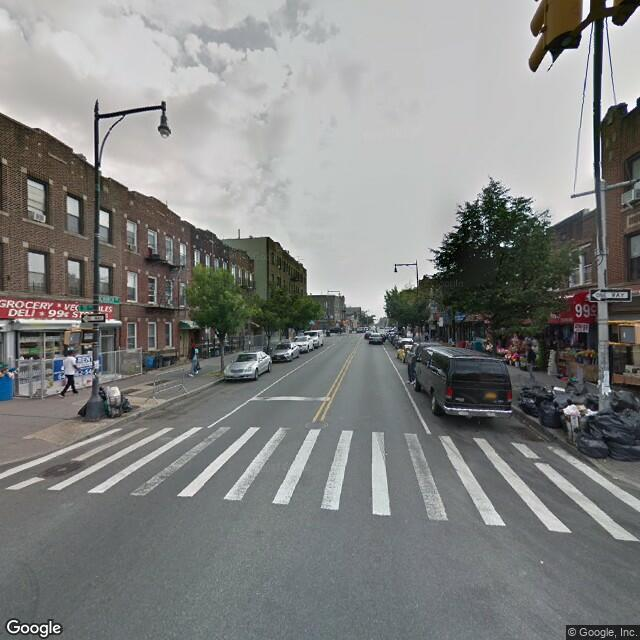litter: (538, 559, 547, 565), (603, 457, 607, 460)
